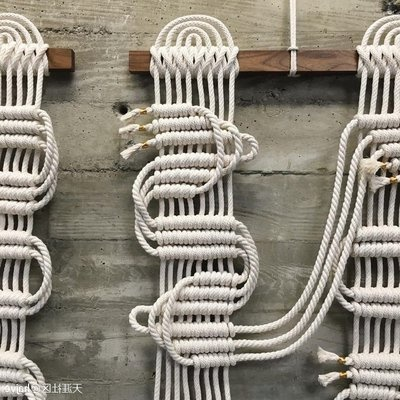9/可回收垃圾/绳子: (117, 15, 400, 400), (1, 12, 50, 400), (287, 1, 300, 77)
